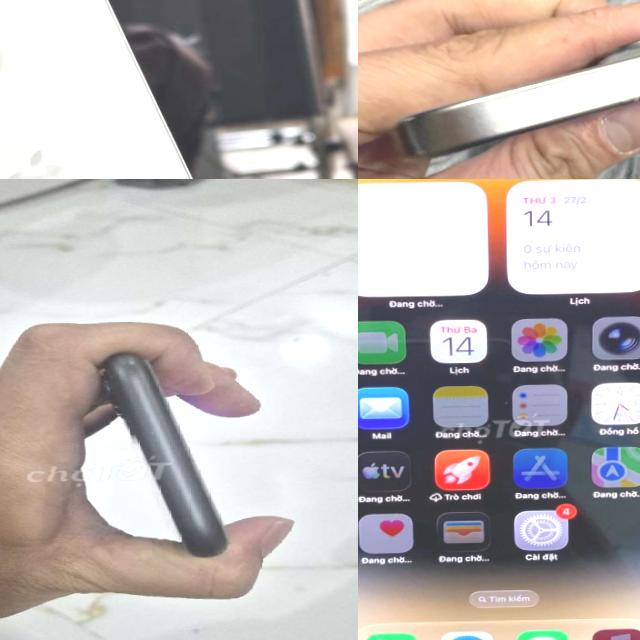gen_11: (82, 338, 248, 576)
gen_14: (358, 179, 640, 640)
gen_15: (0, 0, 287, 179), (379, 0, 640, 177)
